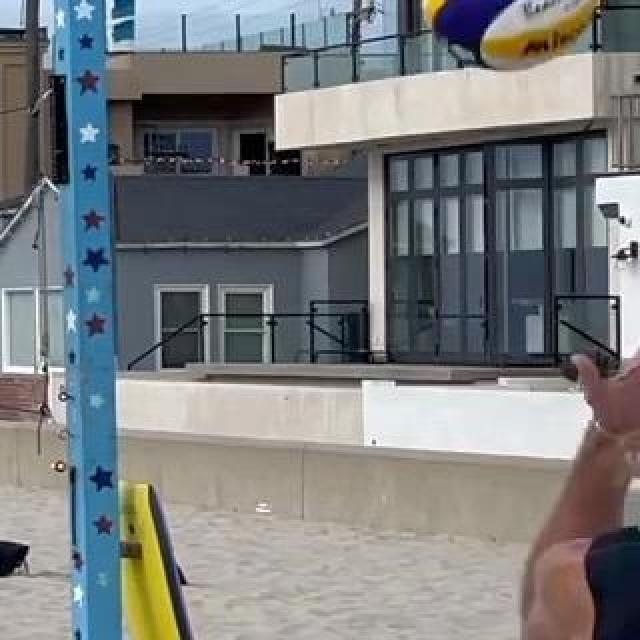volleyball: (417, 0, 603, 70)
